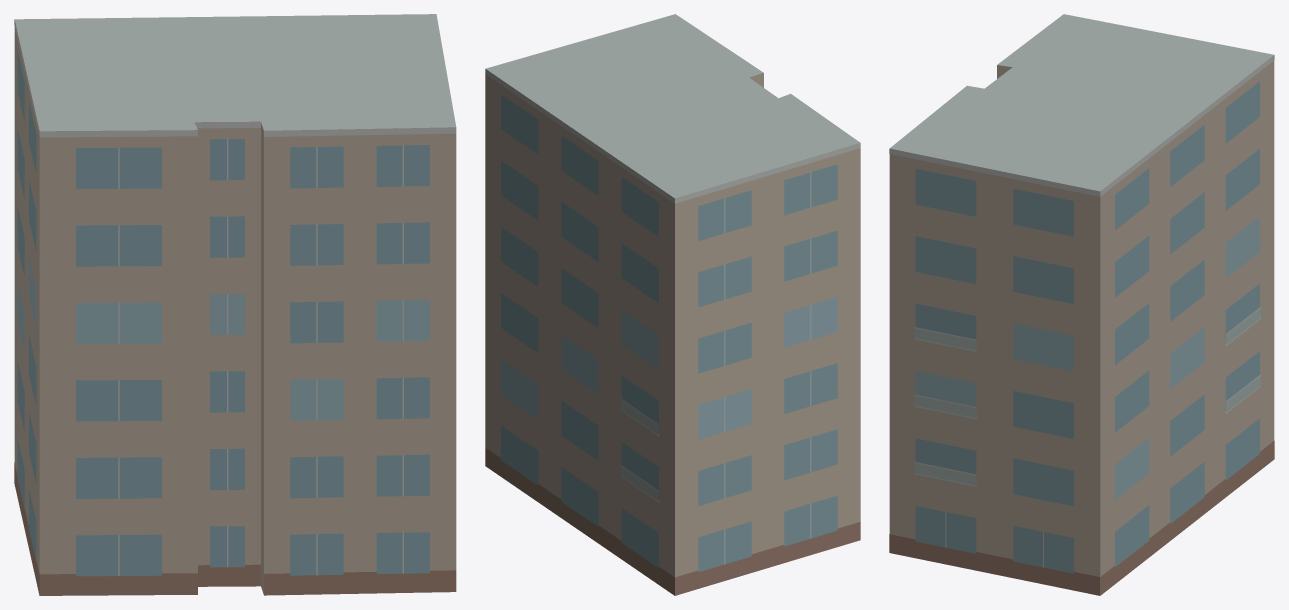
File: survey-upis-33018090.glb
The picture shows the model from 3 angles, left to right: view 1: azimuth 30°, elevation 25°; view 2: azimuth 150°, elevation 25°; view 3: azimuth 270°, elevation 25°; orthographic projection. The views are drawn at different scales.
Parts seen in each view (by area): view 1: survey-upis-33018090.tmp; view 2: survey-upis-33018090.tmp; view 3: survey-upis-33018090.tmp.
Boxes of the visible parts, box(x1,y1,x2,y2) form: survey-upis-33018090.tmp: box(14, 14, 456, 595); survey-upis-33018090.tmp: box(485, 14, 860, 595); survey-upis-33018090.tmp: box(889, 14, 1274, 595).
Bounding box in the file's own units: 17.23 × 18.3 × 15.8.
